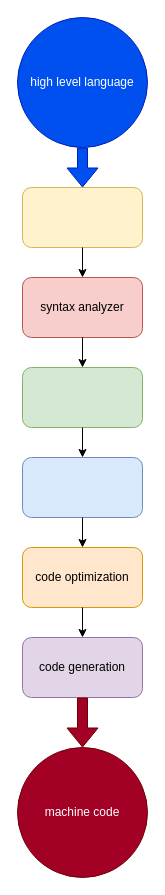
This 165x895 diagram has some shape labels left out. Each missing label, with the box of its shape:
intermediate code generation: (22, 456, 142, 518)
lexical analyzer: (22, 186, 142, 248)
semantic analyser: (22, 366, 142, 428)
